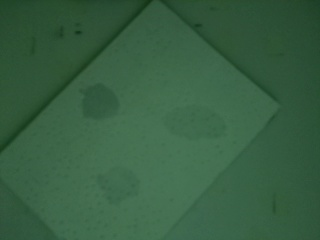Water_detected: (176, 107, 210, 141), (102, 171, 140, 196), (81, 93, 113, 116)
